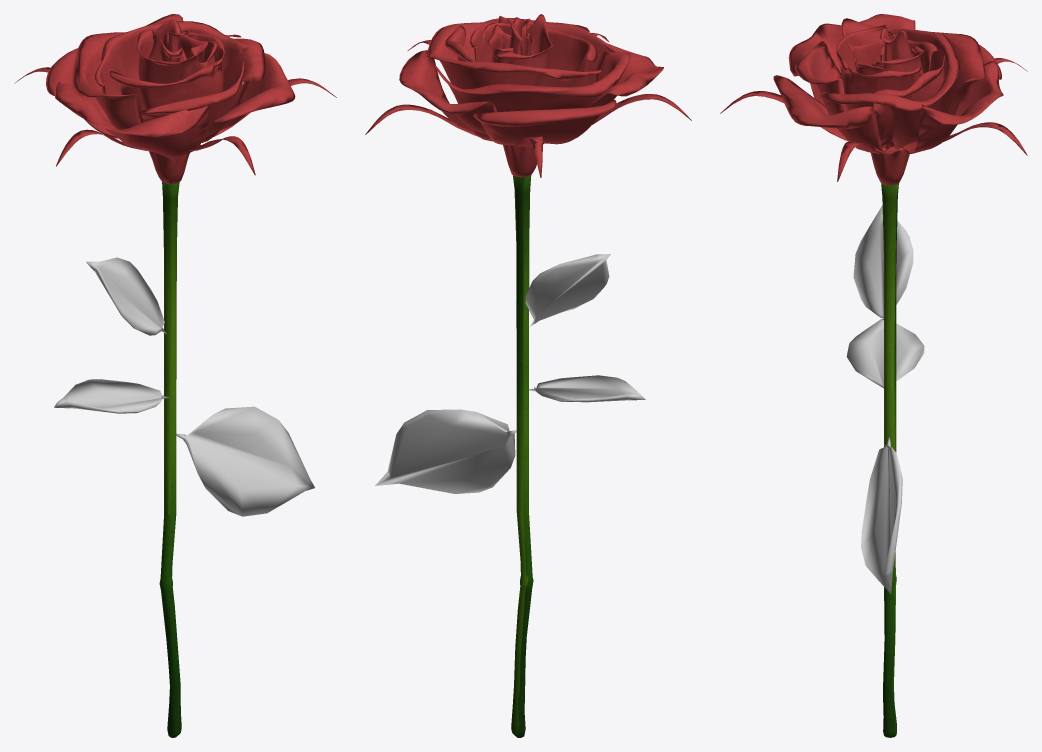
File: flower4.fbx
The picture shows the model from 3 angles, left to right: view 1: azimuth 30°, elevation 25°; view 2: azimuth 150°, elevation 25°; view 3: azimuth 270°, elevation 25°; orthographic projection.
Parts seen in each view (by area): view 1: pCube1; view 2: pCube1; view 3: pCube1.
Boxes of the visible parts, left/top/right/bottom form: pCube1: left=14, top=14, right=336, bottom=737; pCube1: left=365, top=14, right=691, bottom=737; pCube1: left=720, top=14, right=1027, bottom=737.
Bounding box in the file's own units: 158 × 375 × 147.
